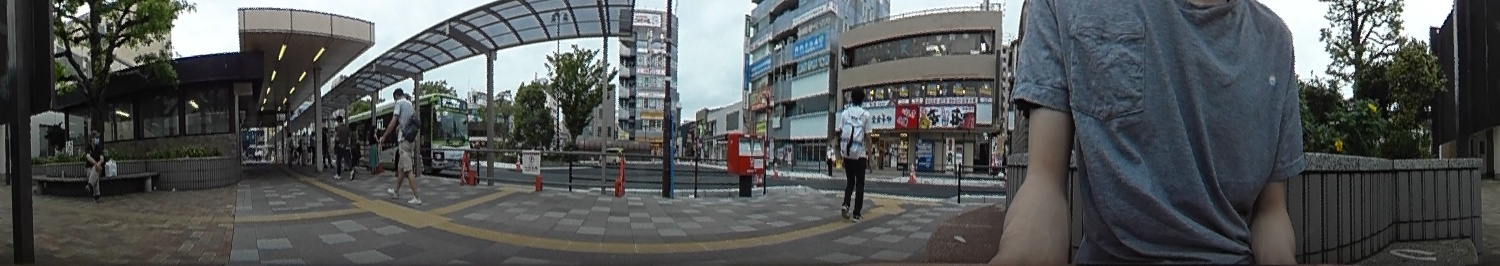difficult_person: (336, 115, 350, 175), (322, 126, 332, 171), (825, 143, 835, 176), (283, 131, 293, 163)
person: (839, 82, 872, 220), (388, 90, 422, 198), (84, 129, 105, 201)
